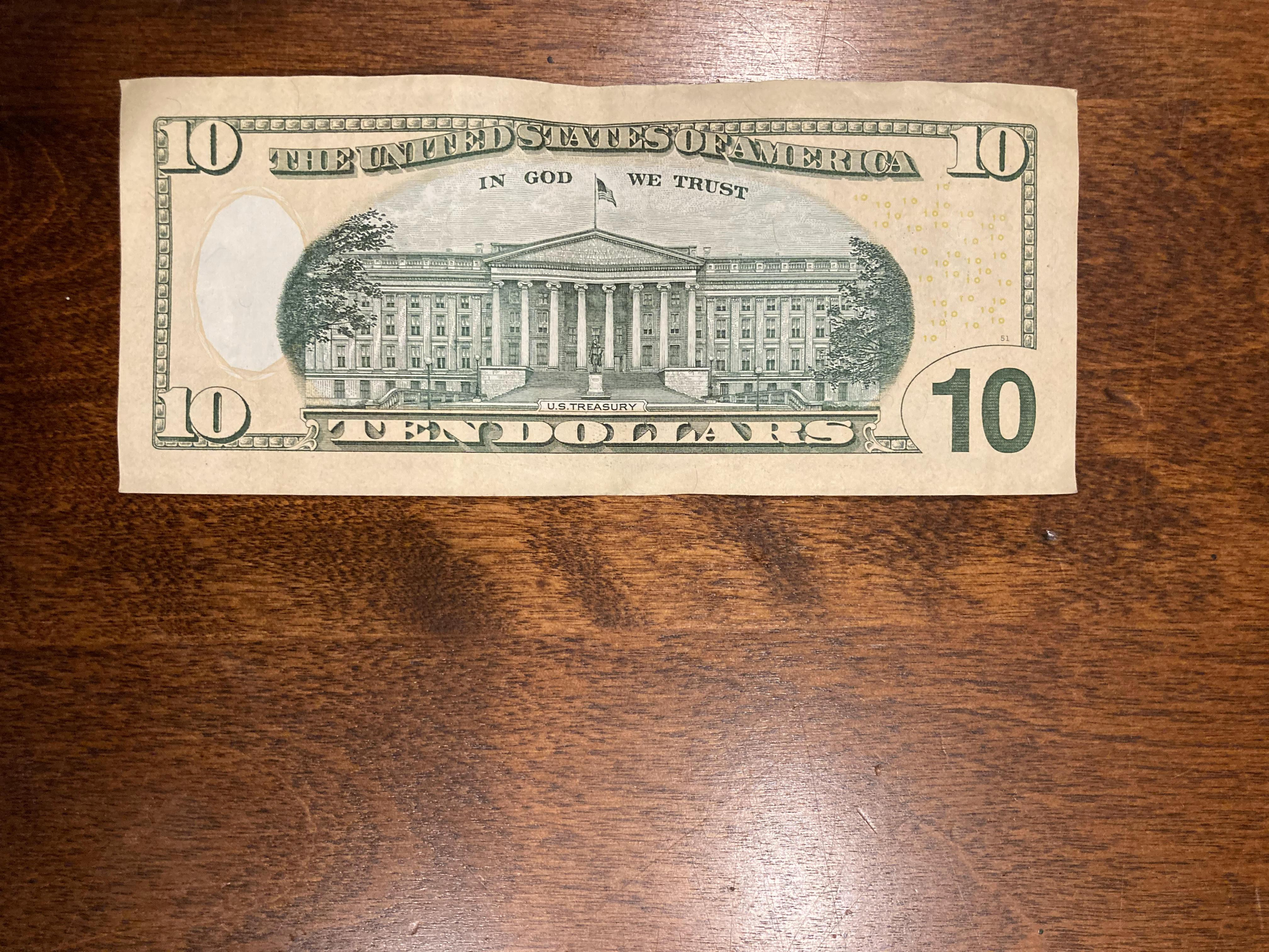ten-back: (116, 73, 1082, 497)
